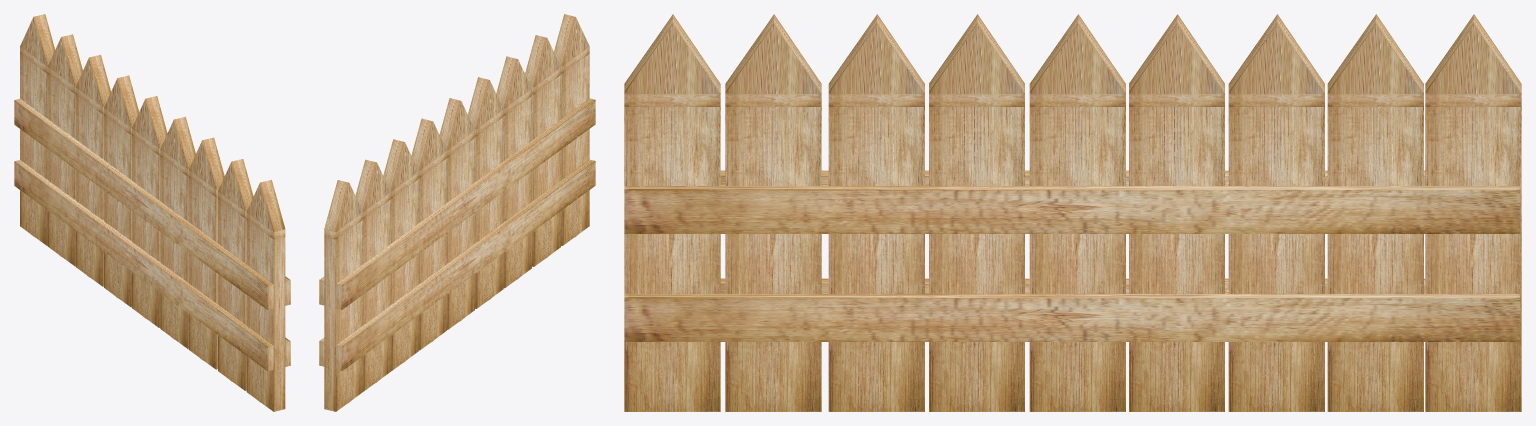
File: fence.glb
The picture shows the model from 3 angles, left to right: view 1: azimuth 30°, elevation 25°; view 2: azimuth 150°, elevation 25°; view 3: azimuth 270°, elevation 25°; orthographic projection. The views are drawn at different scales.
Visible parts, largest first — view 1: long_wood_3, long_wood_4, wood_1, wood_3, wood_2, wood_5, wood_4, wood_8, wood_7, wood_6, wood_9; view 2: long_wood_3, long_wood_4, wood_9, wood_2, wood_1, wood_4, wood_3, wood_6, wood_7, wood_5, wood_8; view 3: long_wood_1, long_wood_2, wood_9, wood_1, wood_2, wood_5, wood_7, wood_8, wood_3, wood_4, wood_6.
Boxes of the visible parts, x1=… form: long_wood_3: x1=14, y1=98, x2=273, y2=309; long_wood_4: x1=14, y1=160, x2=273, y2=371; wood_1: x1=246, y1=180, x2=285, y2=411; wood_3: x1=188, y1=137, x2=224, y2=369; wood_2: x1=218, y1=159, x2=253, y2=390; wood_5: x1=132, y1=96, x2=167, y2=327; wood_4: x1=160, y1=117, x2=195, y2=348; wood_8: x1=47, y1=34, x2=82, y2=266; wood_7: x1=75, y1=54, x2=110, y2=286; wood_6: x1=103, y1=75, x2=138, y2=307; wood_9: x1=20, y1=14, x2=54, y2=245; long_wood_3: x1=336, y1=98, x2=595, y2=309; long_wood_4: x1=336, y1=159, x2=595, y2=370; wood_9: x1=324, y1=180, x2=363, y2=411; wood_2: x1=525, y1=35, x2=560, y2=266; wood_1: x1=554, y1=14, x2=589, y2=245; wood_4: x1=468, y1=77, x2=503, y2=308; wood_3: x1=496, y1=56, x2=531, y2=288; wood_6: x1=411, y1=118, x2=446, y2=350; wood_7: x1=383, y1=139, x2=418, y2=371; wood_5: x1=439, y1=98, x2=474, y2=329; wood_8: x1=355, y1=159, x2=390, y2=391; long_wood_1: x1=624, y1=184, x2=1520, y2=233; long_wood_2: x1=624, y1=292, x2=1520, y2=341; wood_9: x1=1425, y1=14, x2=1521, y2=411; wood_1: x1=624, y1=14, x2=720, y2=411; wood_2: x1=725, y1=14, x2=821, y2=411; wood_5: x1=1029, y1=14, x2=1125, y2=411; wood_7: x1=1228, y1=14, x2=1324, y2=411; wood_8: x1=1327, y1=14, x2=1423, y2=411; wood_3: x1=828, y1=14, x2=924, y2=411; wood_4: x1=929, y1=14, x2=1024, y2=411; wood_6: x1=1129, y1=14, x2=1224, y2=411.
Size of the model in its own units: 9.67 by 89.03 by 186.
Materials: 2 (2 with a texture image).
